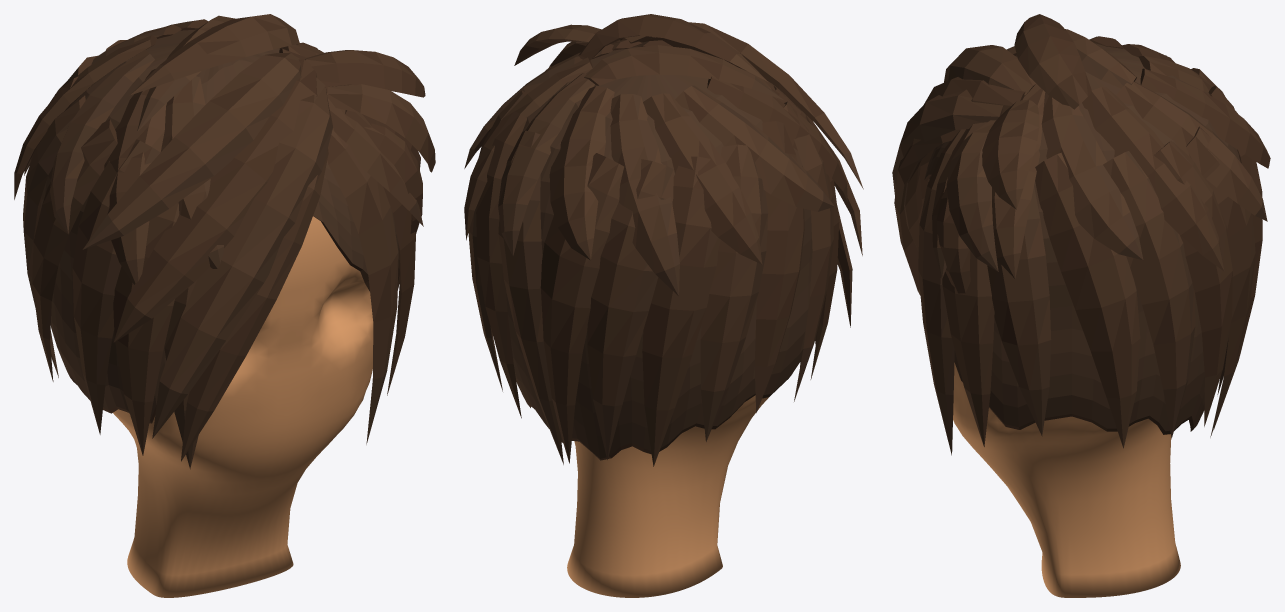
The model's file is base-02-corte-01.glb.
The picture shows the model from 3 angles, left to right: view 1: azimuth 30°, elevation 25°; view 2: azimuth 150°, elevation 25°; view 3: azimuth 270°, elevation 25°; orthographic projection. The views are drawn at different scales.
Parts seen in each view (by area): view 1: RCL_Corte_Feminino_01, RCL_Base_Feminina_02; view 2: RCL_Corte_Feminino_01, RCL_Base_Feminina_02; view 3: RCL_Corte_Feminino_01, RCL_Base_Feminina_02.
Part boxes in pixels (box(x1,y1,x2,y2)): RCL_Corte_Feminino_01: box(14, 14, 435, 469); RCL_Base_Feminina_02: box(113, 216, 373, 597); RCL_Corte_Feminino_01: box(464, 14, 863, 466); RCL_Base_Feminina_02: box(567, 395, 768, 597); RCL_Corte_Feminino_01: box(892, 14, 1270, 455); RCL_Base_Feminina_02: box(953, 362, 1180, 597).
Bounding box in the file's own units: 0.222 × 0.3331 × 0.2118.
